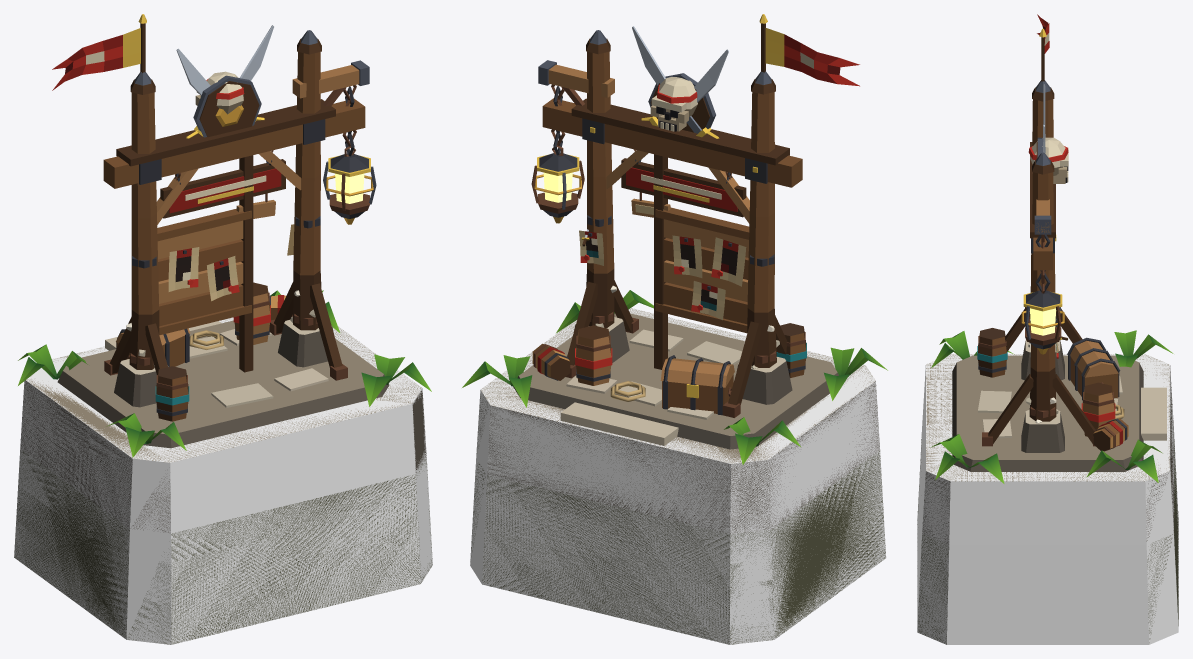
Rendered from pirate_bounty_gallows_post.glb.
3 views of the same model, side by side, from view 1: azimuth 30°, elevation 25°; view 2: azimuth 150°, elevation 25°; view 3: azimuth 270°, elevation 25° (orthographic). The views are drawn at different scales.
Visible parts, largest first — view 1: PirateBountyGallowsPost, col_bounty_base; view 2: PirateBountyGallowsPost, col_bounty_base; view 3: col_bounty_base, PirateBountyGallowsPost.
Boxes of the visible parts, x1=… form: PirateBountyGallowsPost: x1=14, y1=14, x2=432, y2=644; col_bounty_base: x1=14, y1=317, x2=432, y2=644; PirateBountyGallowsPost: x1=462, y1=14, x2=887, y2=644; col_bounty_base: x1=470, y1=308, x2=886, y2=644; col_bounty_base: x1=917, y1=354, x2=1178, y2=644; PirateBountyGallowsPost: x1=917, y1=14, x2=1178, y2=644.
Size of the model in its own units: 5.64 by 9.16 by 4.24.
